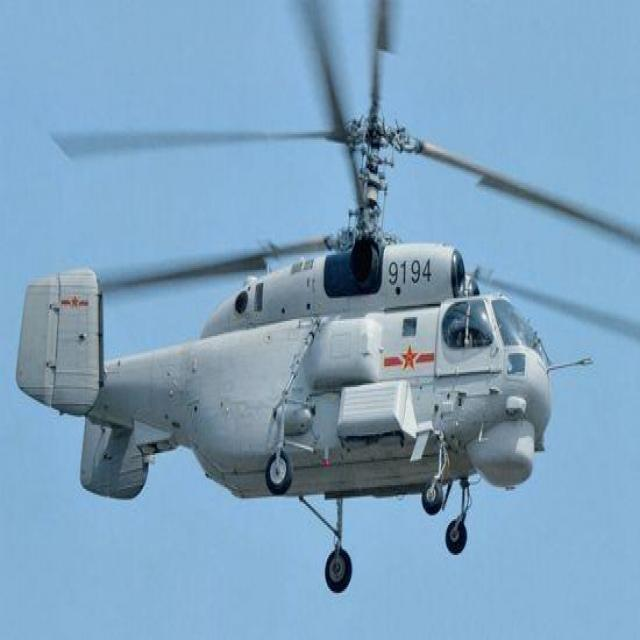MIL_HELO: (3, 0, 640, 598)
